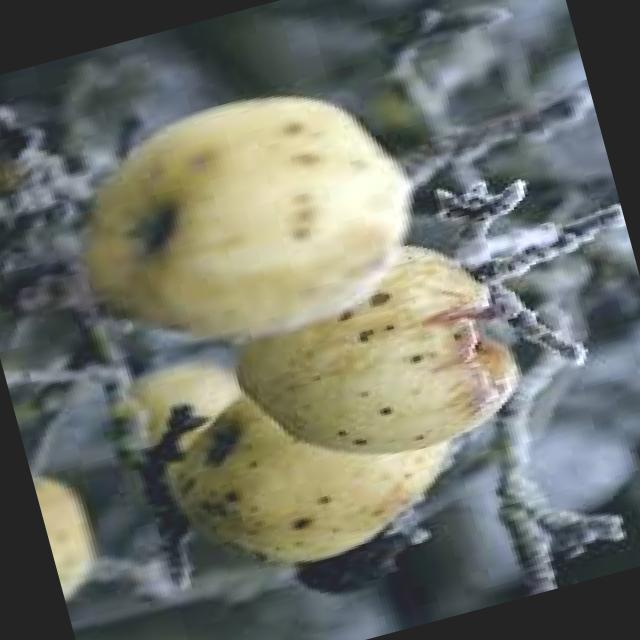organic: (0, 33, 581, 613)
